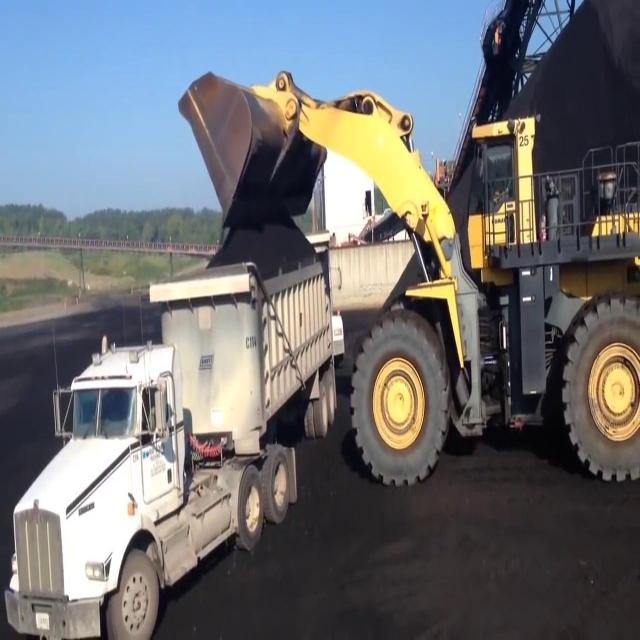buldozerpayloadergrader: (171, 43, 639, 490)
dump_truck: (7, 259, 343, 633)
